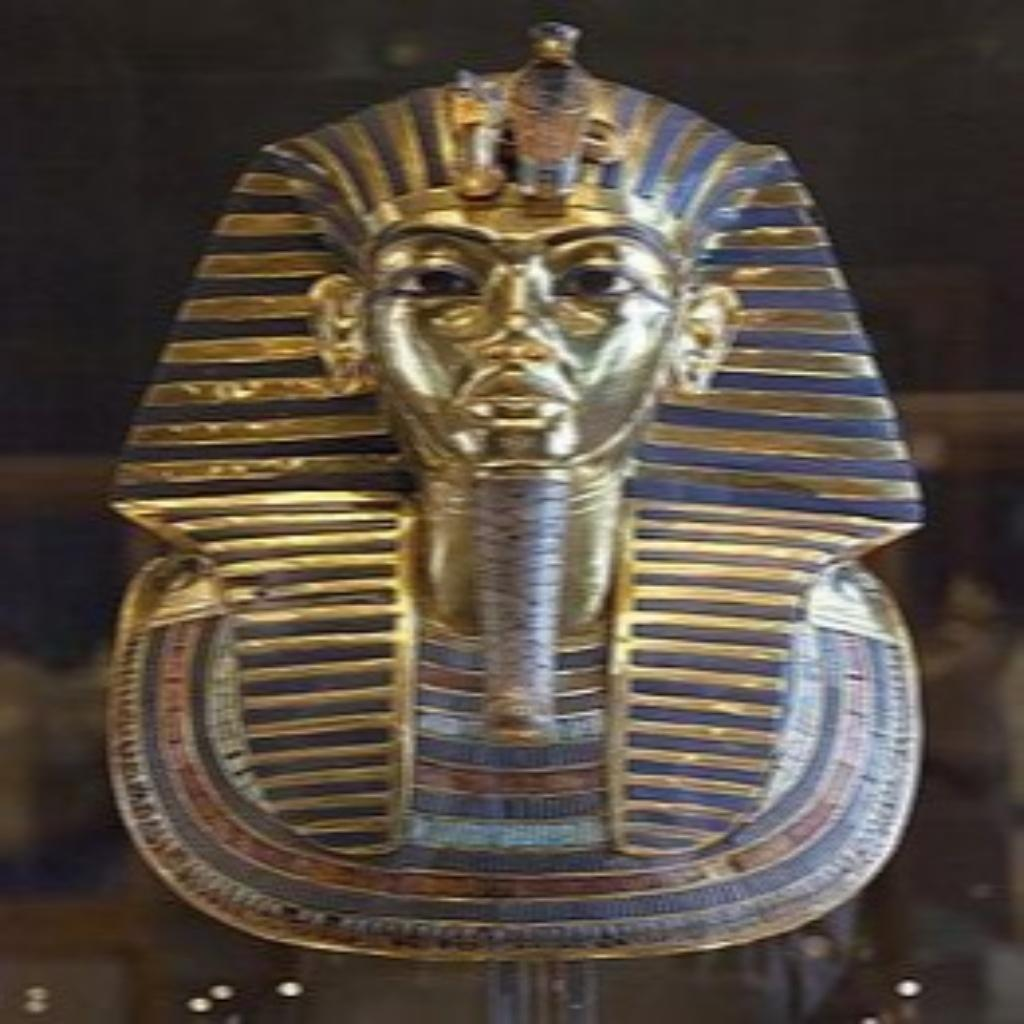Mask of Tutankhamun: (102, 19, 930, 964)
